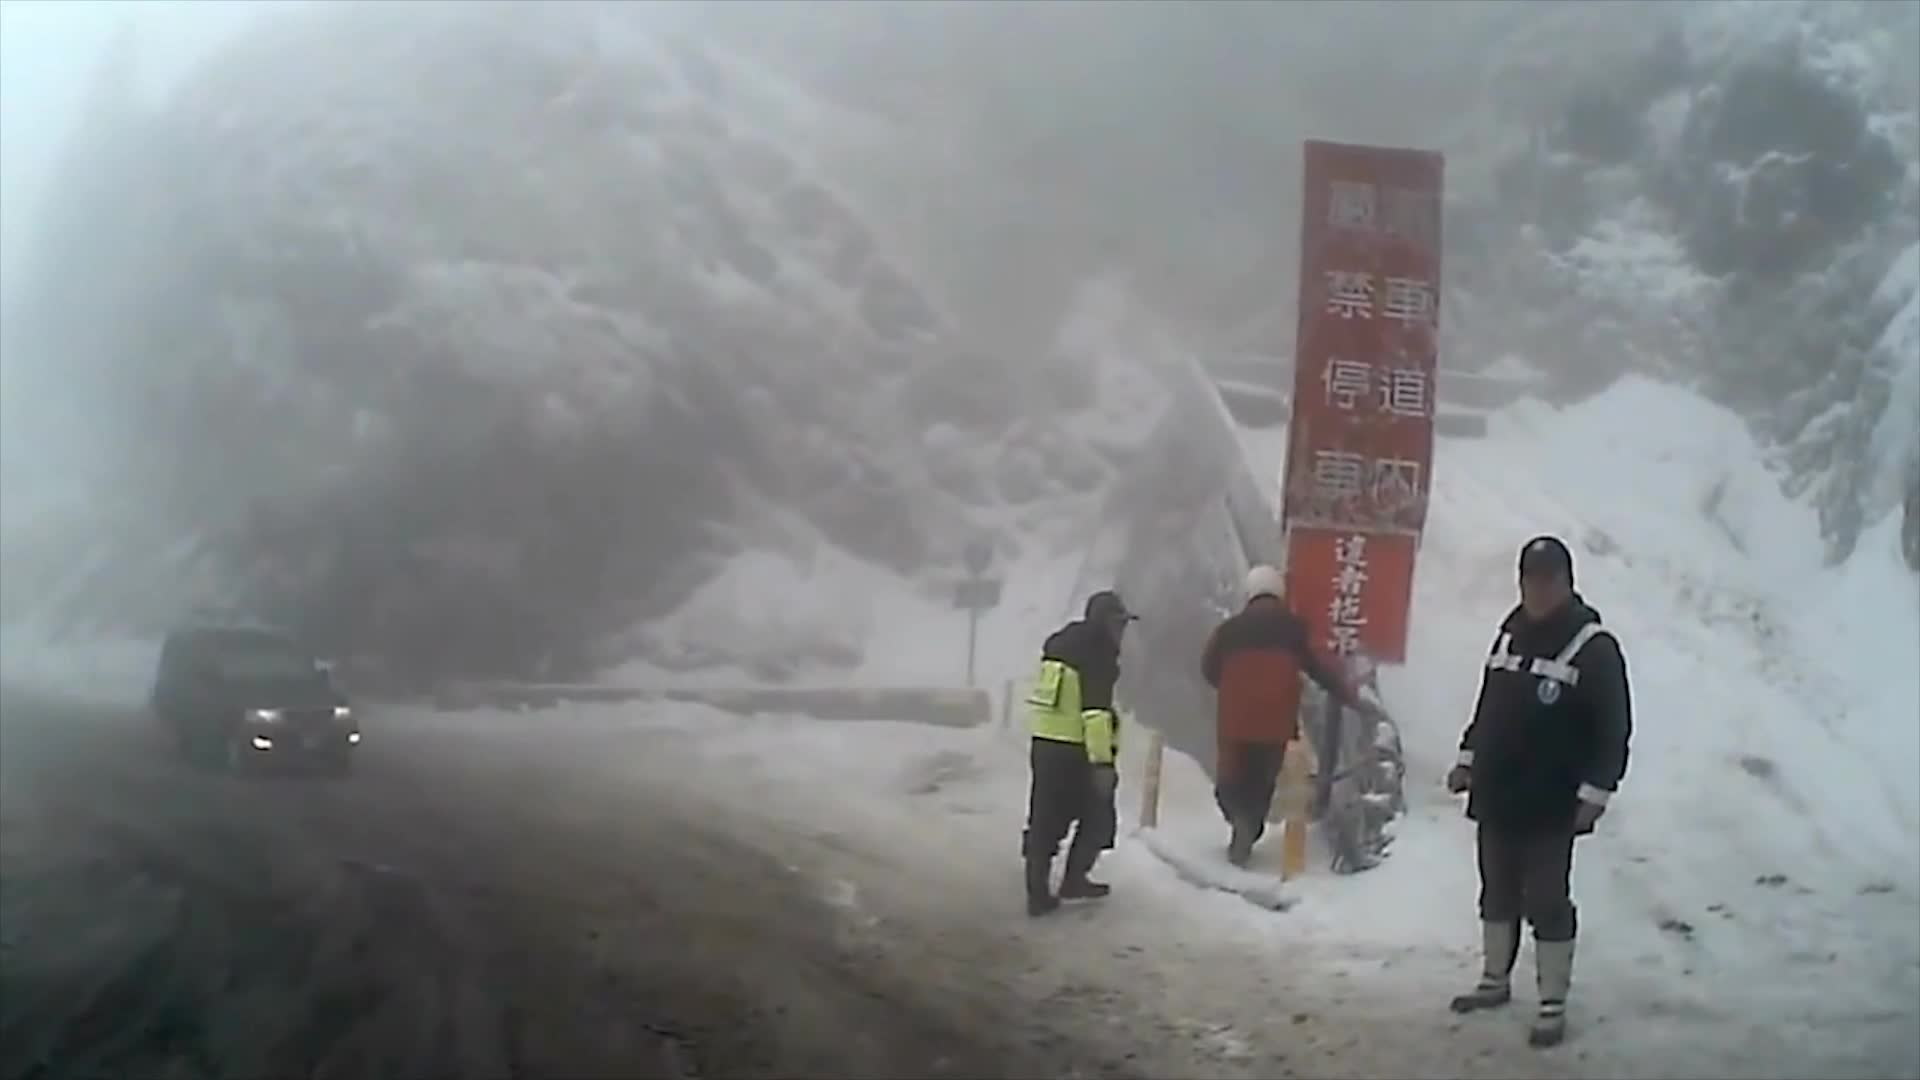pedestrian: (1451, 530, 1641, 1050), (1208, 560, 1348, 866), (1021, 593, 1137, 919)
vehicle: (153, 630, 362, 787)
